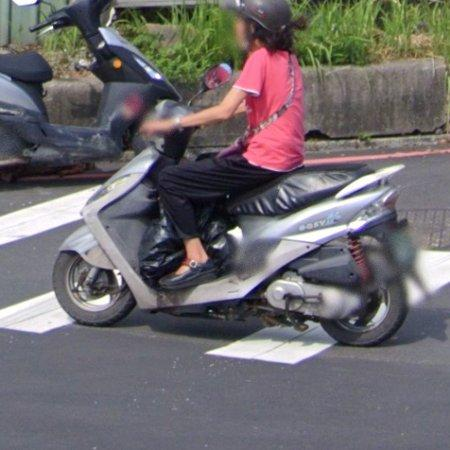motorcycles: (48, 64, 422, 343)
